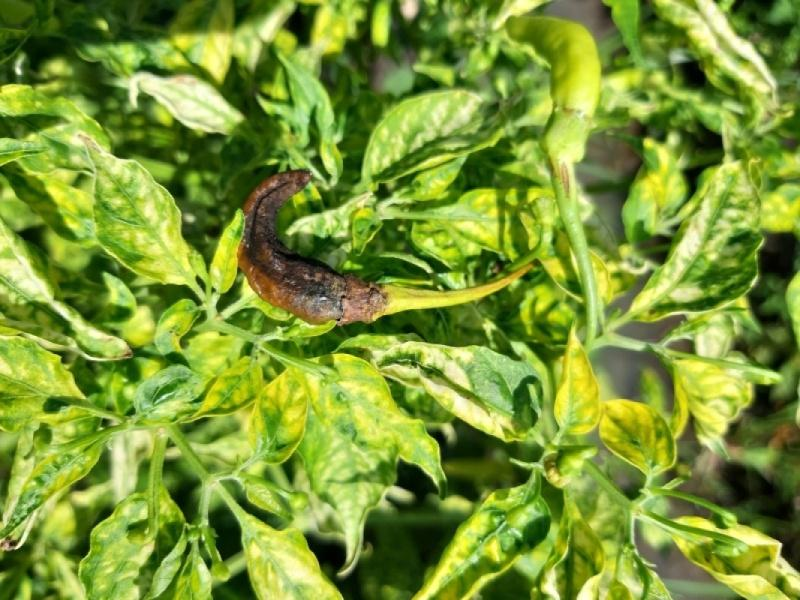antraknosa: (236, 167, 382, 326)
cabai_normal: (506, 14, 601, 123)
